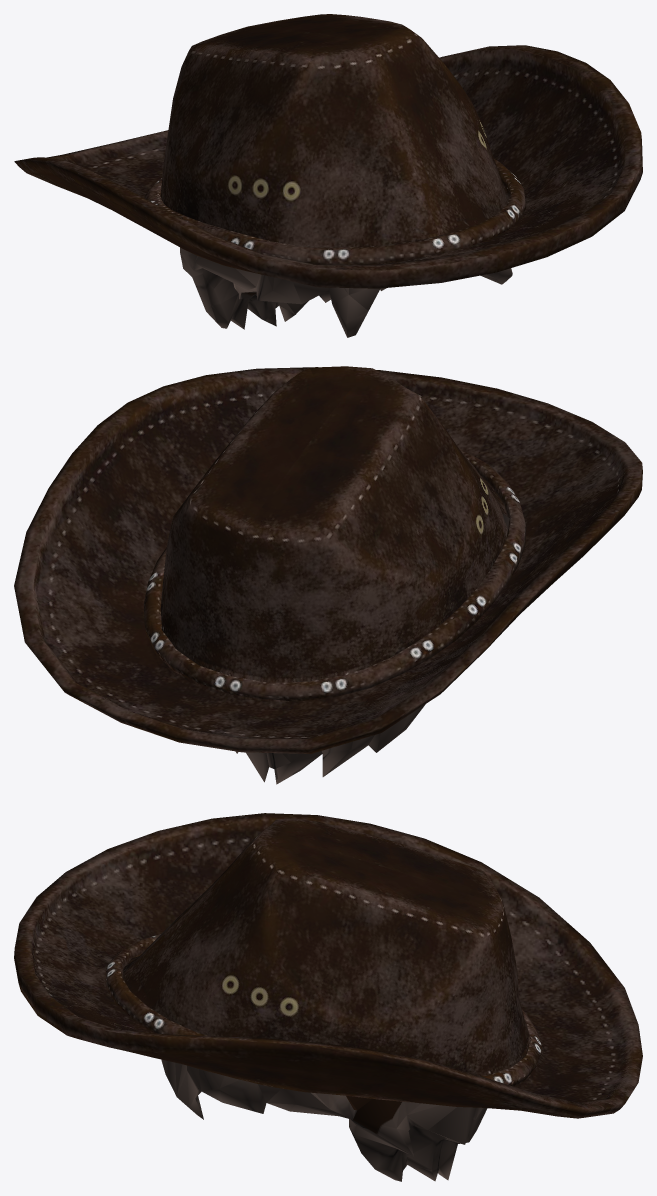
The picture shows the model from 3 angles, top to bottom: view 1: azimuth 30°, elevation 25°; view 2: azimuth 150°, elevation 25°; view 3: azimuth 270°, elevation 25°; orthographic projection. The views are drawn at different scales.
Parts seen in each view (by area): view 1: Wolf3D_Headwear.028; view 2: Wolf3D_Headwear.028; view 3: Wolf3D_Headwear.028.
Boxes of the visible parts, box(x1,y1,x2,y2) form: Wolf3D_Headwear.028: box(14, 14, 642, 337); Wolf3D_Headwear.028: box(14, 366, 642, 784); Wolf3D_Headwear.028: box(14, 813, 642, 1181).
Bounding box in the file's own units: 0.334 × 0.2262 × 0.3825.
1 material, 1 textured.
